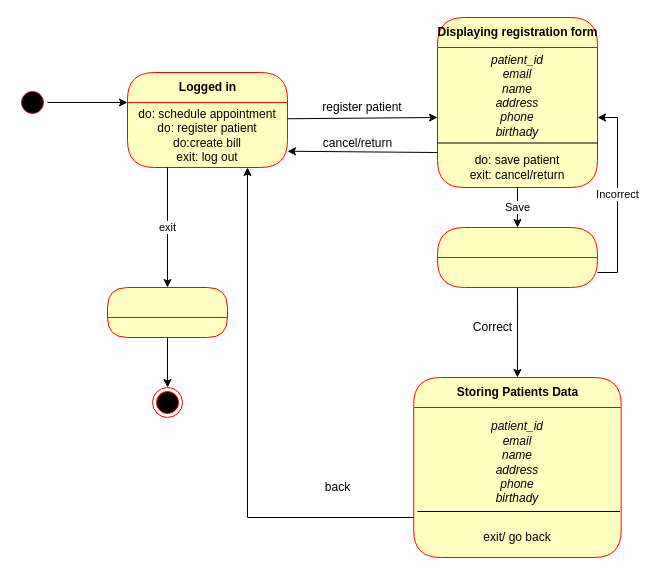
Image size: 656x575. Some labels were removed from this diagram. Each missing label, with the box of its shape:
Logging out: (106, 286, 228, 338)
Validation of information: (436, 226, 598, 288)
